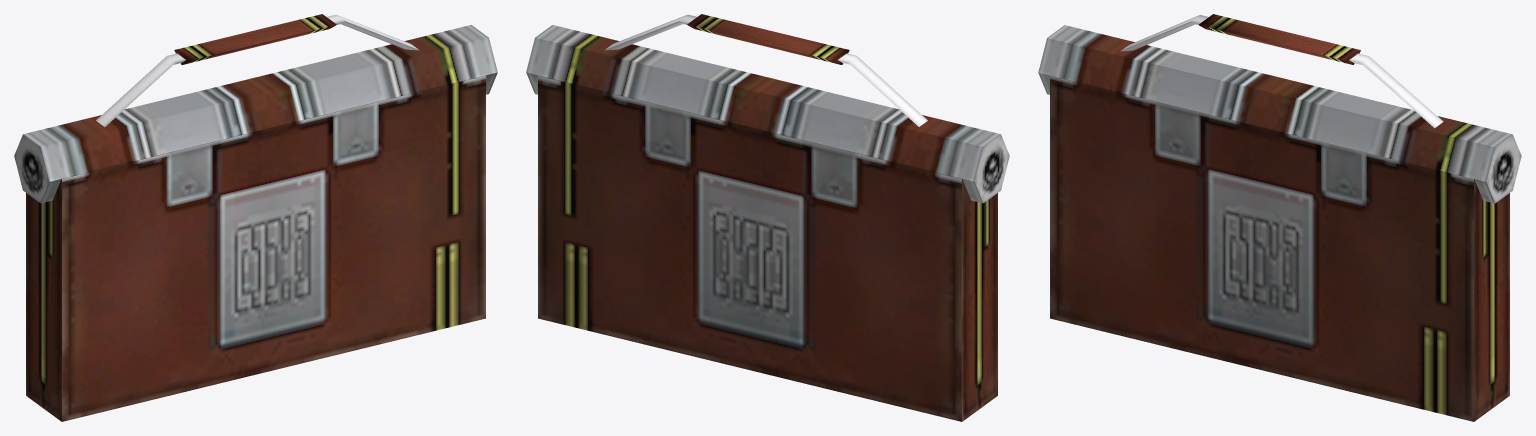
File: thm_prp_briefcase_l1.fbx
The picture shows the model from 3 angles, left to right: view 1: azimuth 30°, elevation 25°; view 2: azimuth 150°, elevation 25°; view 3: azimuth 330°, elevation 25°; orthographic projection.
Visible parts, largest first — view 1: mesh_node; view 2: mesh_node; view 3: mesh_node.
Boxes of the visible parts, <box> form: mesh_node: <box>14,14,497,421</box>; mesh_node: <box>526,14,1009,421</box>; mesh_node: <box>1038,14,1521,421</box>.
Bounding box in the file's own units: 0.4221 × 0.2876 × 0.0586.
Materials: 1 (1 with a texture image).
